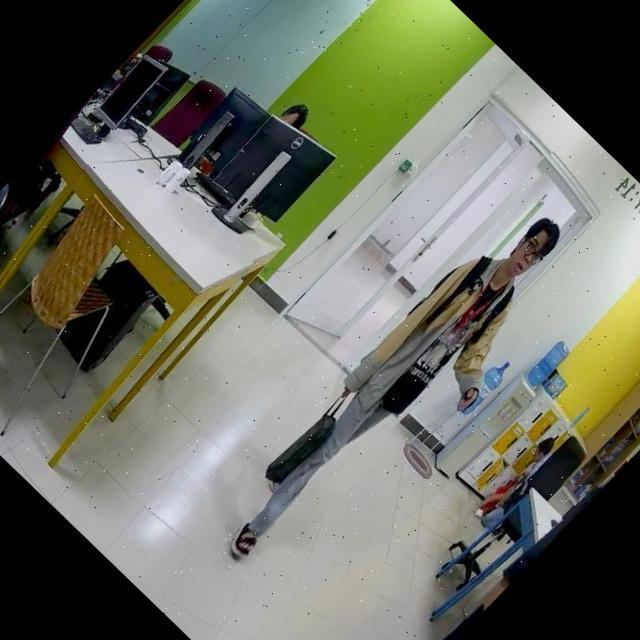person: (208, 192, 598, 590)
